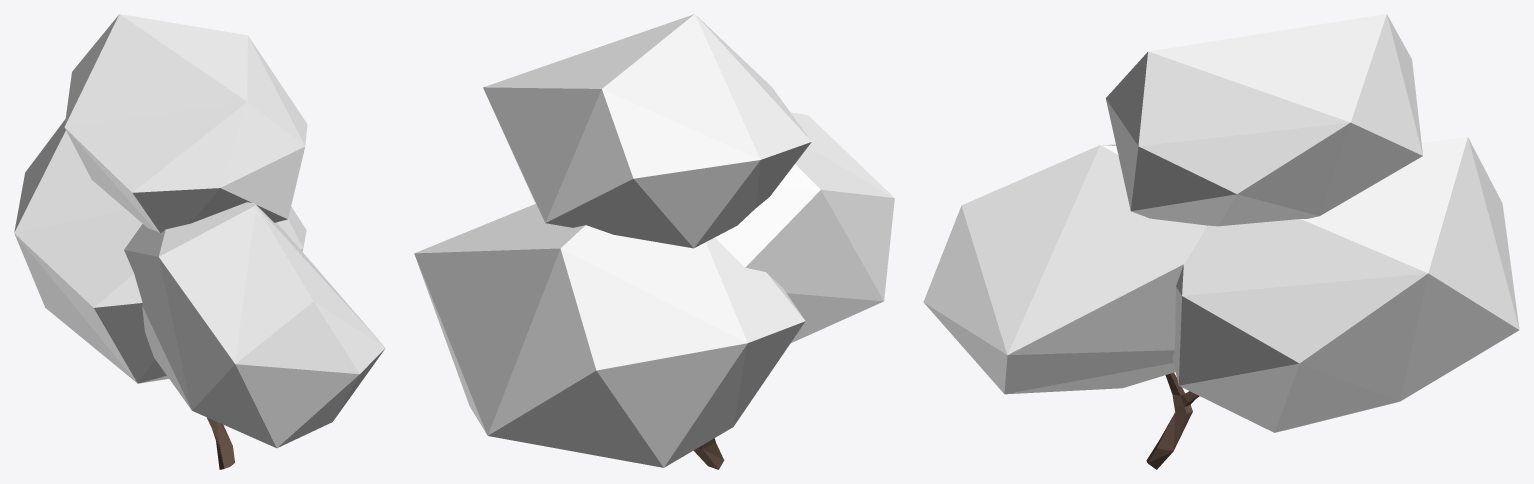
File: Kustik_pink2.fbx
3 views of the same model, side by side, from view 1: azimuth 30°, elevation 25°; view 2: azimuth 150°, elevation 25°; view 3: azimuth 270°, elevation 25° (orthographic). The views are drawn at different scales.
Parts seen in each view (by area): view 1: Kustik_pink2; view 2: Kustik_pink2; view 3: Kustik_pink2.
Boxes of the visible parts, box(x1,y1,x2,y2) form: Kustik_pink2: box(14, 14, 385, 469); Kustik_pink2: box(414, 14, 894, 469); Kustik_pink2: box(923, 14, 1519, 469).
Size of the model in its own units: 82.68 by 116 by 139.
